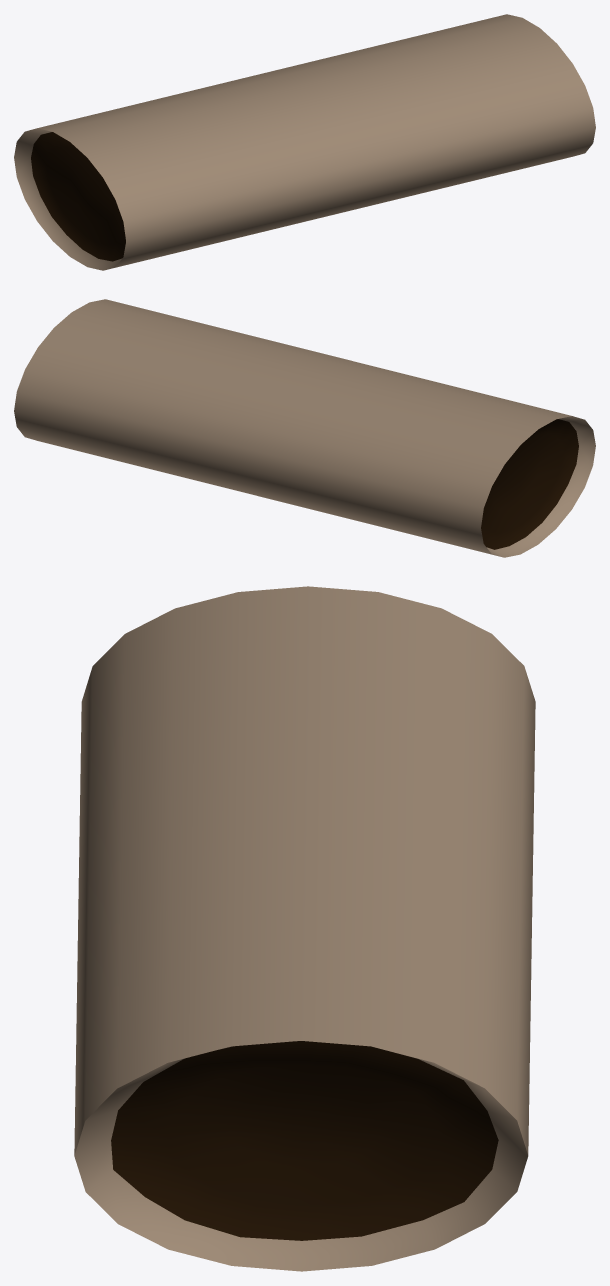
Rendered from Burrito.fbx.
The picture shows the model from 3 angles, top to bottom: view 1: azimuth 30°, elevation 25°; view 2: azimuth 150°, elevation 25°; view 3: azimuth 270°, elevation 25°; orthographic projection. The views are drawn at different scales.
Visible parts, largest first — view 1: burrito; view 2: burrito; view 3: burrito.
Boxes of the visible parts, left/top/right/bottom form: burrito: left=14, top=14, right=595, bottom=270; burrito: left=14, top=299, right=595, bottom=557; burrito: left=74, top=586, right=535, bottom=1271.
Bounding box in the file's own units: 35.91 × 8.51 × 15.28.
